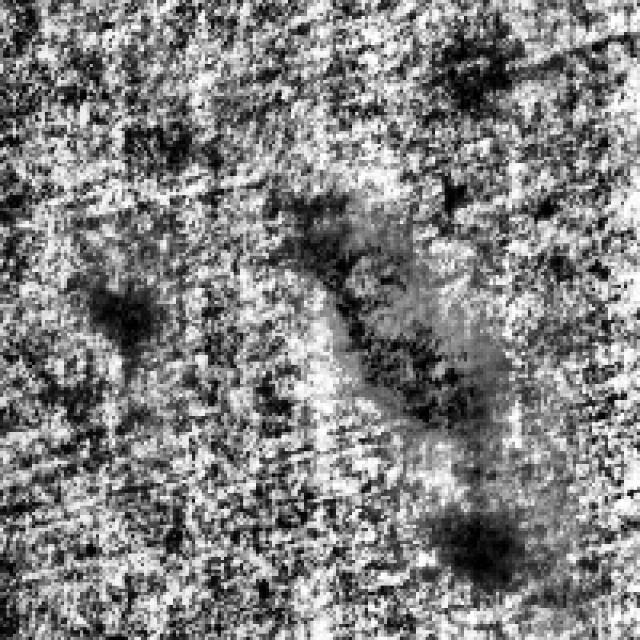Scratches: (288, 188, 490, 471), (419, 458, 531, 588), (67, 256, 163, 368)
